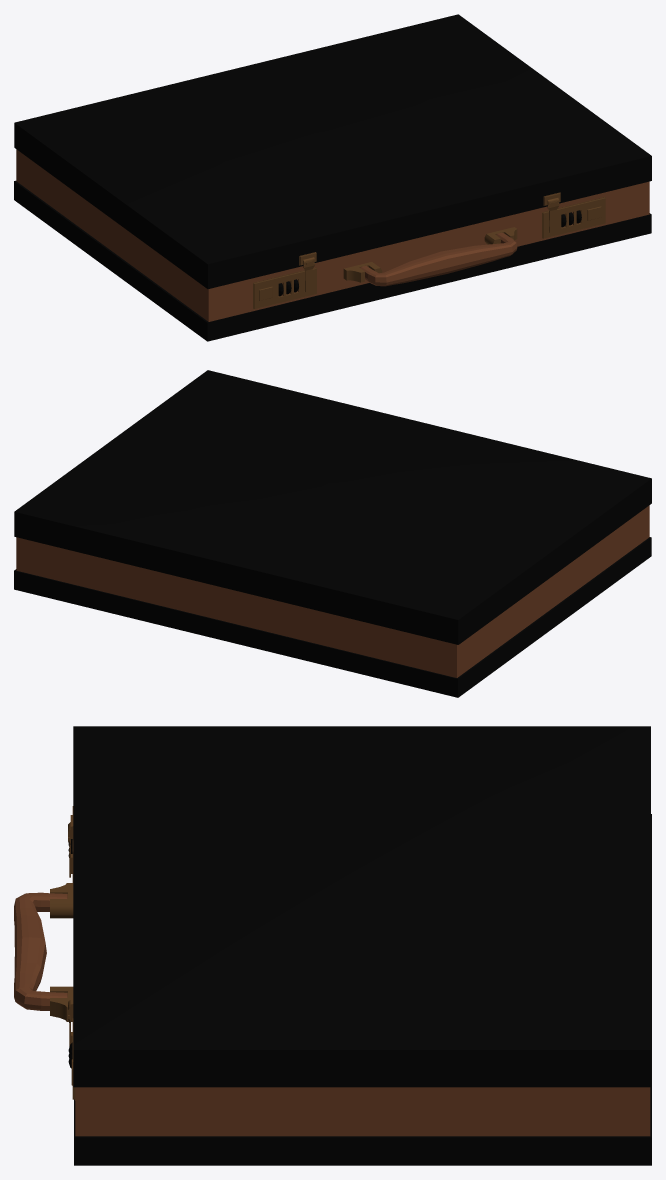
File: Maletin2Final.fbx
3 renders of one model, top to bottom at view 1: azimuth 30°, elevation 25°; view 2: azimuth 150°, elevation 25°; view 3: azimuth 270°, elevation 25°, orthographic. The views are drawn at different scales.
Visible parts, largest first — view 1: polySurface34, middel_part, outside, Hand, R_luck, L_luck, L_holder; view 2: polySurface34, middel_part, outside; view 3: polySurface34, middel_part, outside, Hand, L_holder.
Boxes of the visible parts, left/top/right/bottom form: polySurface34: left=14, top=14, right=651, bottom=288; middel_part: left=16, top=149, right=649, bottom=321; outside: left=14, top=180, right=651, bottom=341; Hand: left=360, top=232, right=517, bottom=286; R_luck: left=253, top=267, right=316, bottom=309; L_luck: left=542, top=197, right=605, bottom=238; L_holder: left=343, top=227, right=517, bottom=282; polySurface34: left=14, top=370, right=651, bottom=644; middel_part: left=16, top=505, right=649, bottom=677; outside: left=14, top=537, right=651, bottom=697; polySurface34: left=73, top=726, right=650, bottom=1087; middel_part: left=75, top=1087, right=650, bottom=1136; outside: left=74, top=814, right=651, bottom=1165; Hand: left=14, top=892, right=67, bottom=1010; L_holder: left=50, top=883, right=73, bottom=1021.
Bounding box in the file's own units: 76.91 × 13.77 × 64.08.
